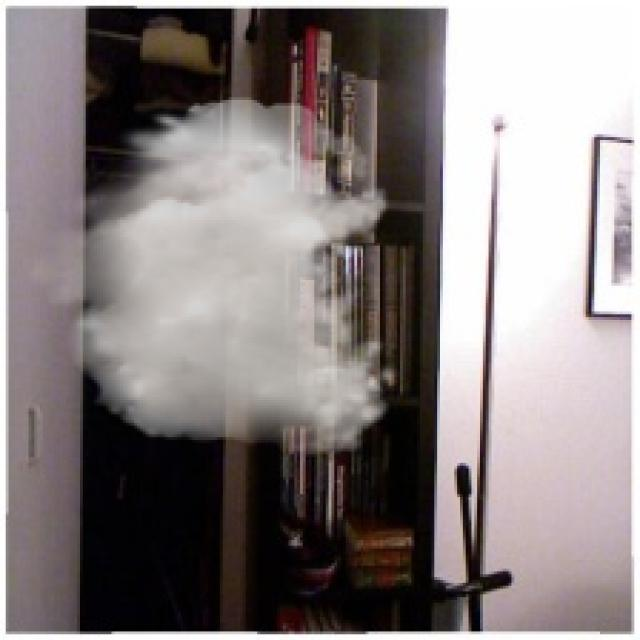smoke: (20, 97, 400, 457)
